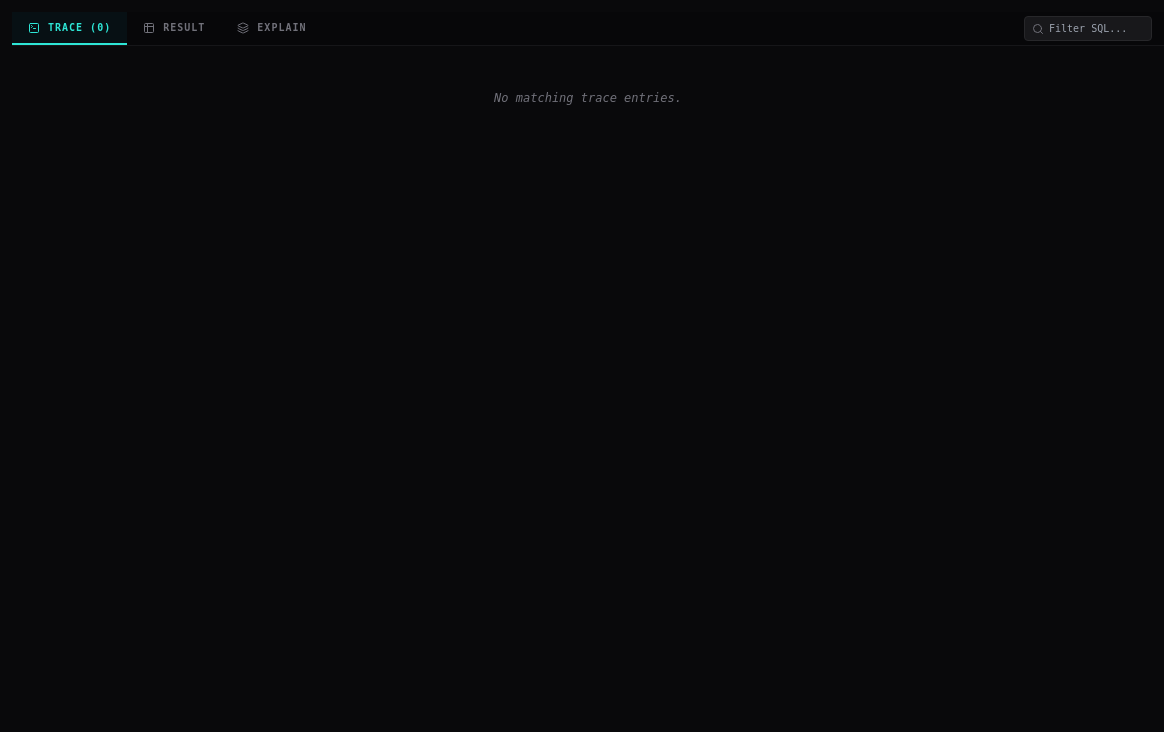
Test: QueryInspector › renders result tab table headers and rows
This screenshot has width=1164, height=732.
Click the button "Result" at (174, 28), box [127,12,221,45]
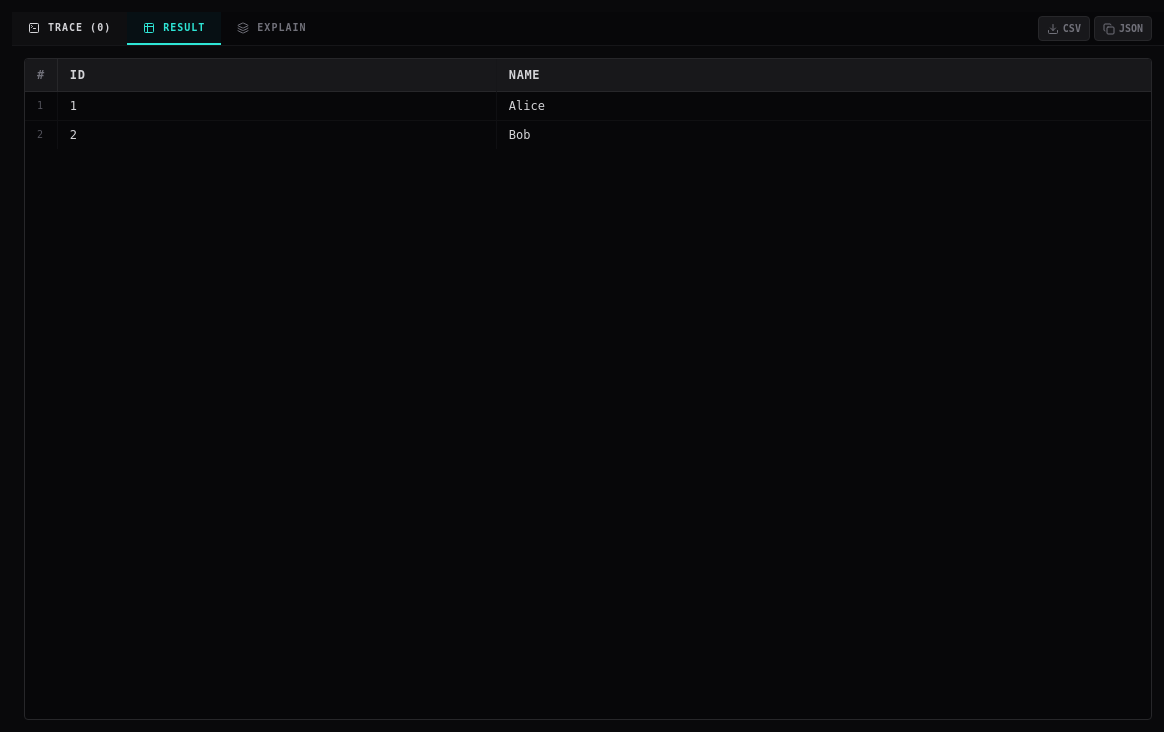
Result: the column heading "id" is shown at [57,59,496,92]
Result: the column heading "name" is shown at [496,59,1151,92]
Result: the text "Alice" is shown at [496,92,1151,120]
